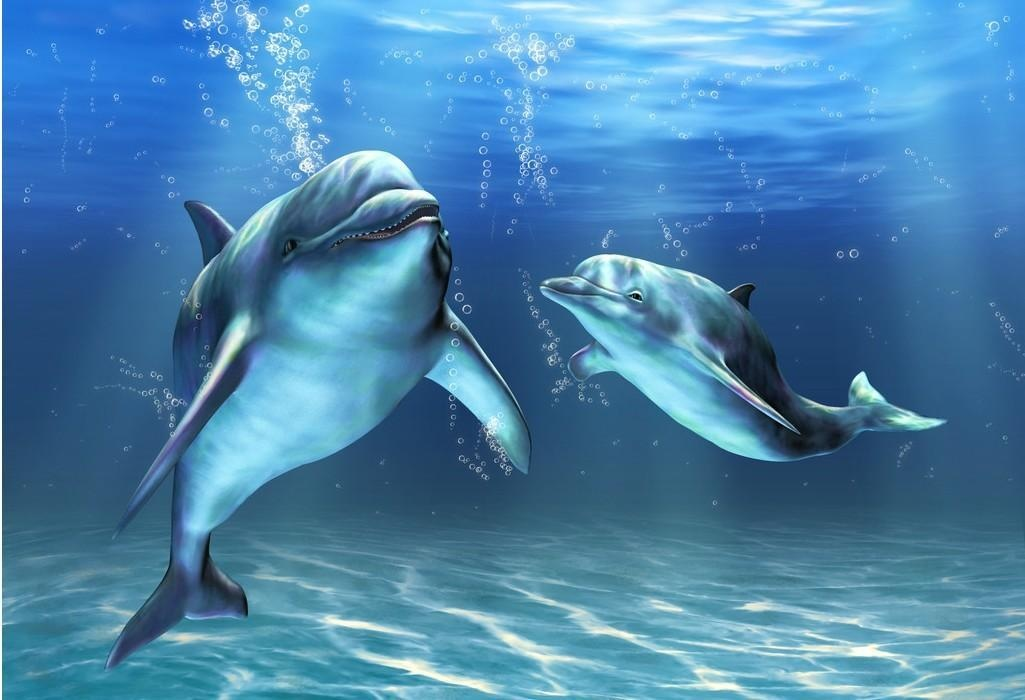fish: (99, 148, 534, 673), (539, 255, 951, 462)
